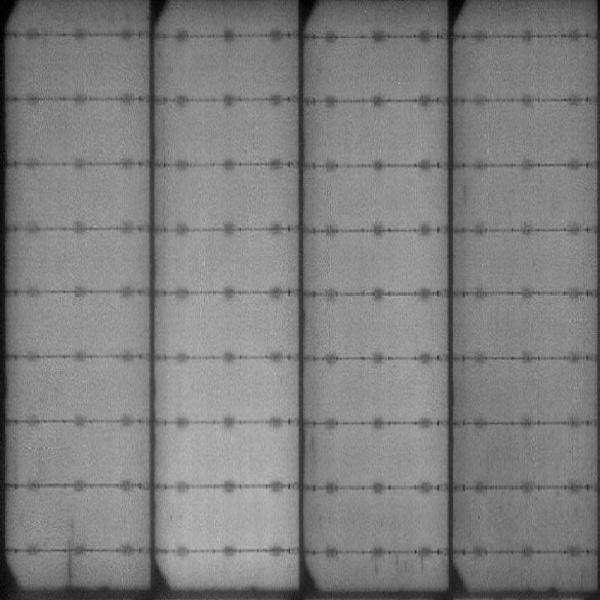scratch: (61, 543, 77, 588)
